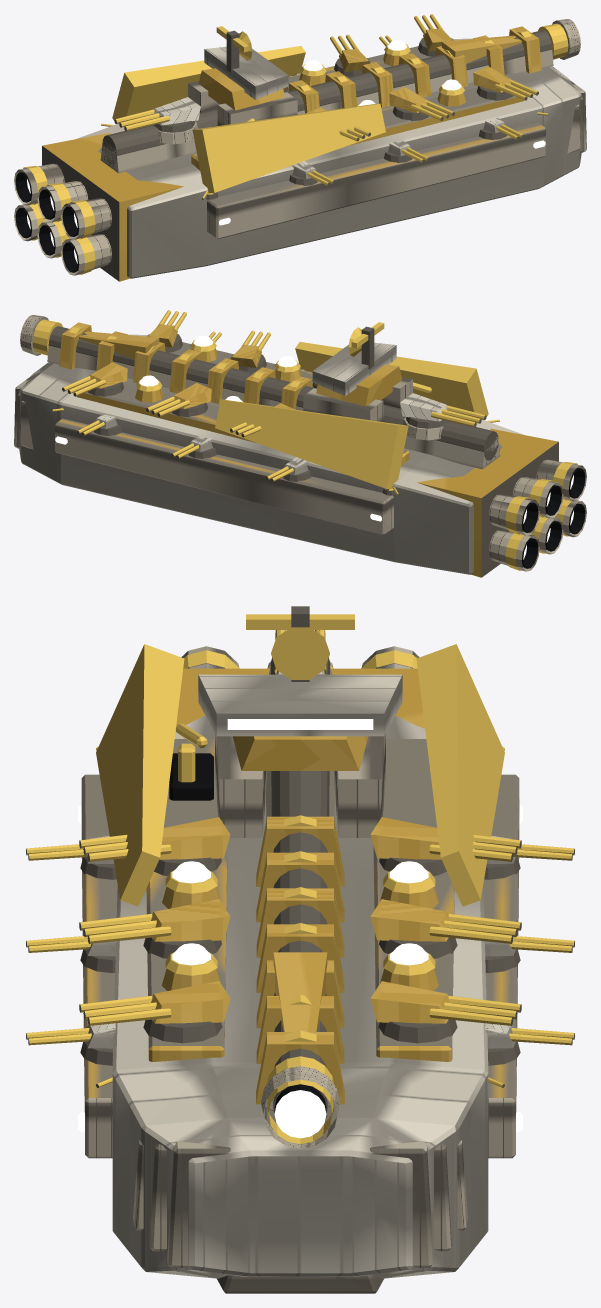
The model's file is battleship.glb.
3 views of the same model, one above another, from view 1: azimuth 30°, elevation 25°; view 2: azimuth 150°, elevation 25°; view 3: azimuth 270°, elevation 25° (orthographic). The views are drawn at different scales.
Visible parts, largest first — view 1: hull_body, weapon_mounts, engine_block, sensor_tower, shield_domes; view 2: hull_body, weapon_mounts, engine_block, sensor_tower, shield_domes; view 3: hull_body, weapon_mounts, sensor_tower, shield_domes, engine_block.
Part boxes in pixels (x1,y1,x2,y2): hull_body: (77,35,586,278); weapon_mounts: (100,14,580,199); engine_block: (14,132,183,281); sensor_tower: (188,26,297,125); shield_domes: (299,39,465,106); hull_body: (14,331,523,574); weapon_mounts: (20,310,500,495); engine_block: (417,428,586,577); sensor_tower: (303,322,412,421); shield_domes: (135,335,301,402); hull_body: (78,644,522,1293); weapon_mounts: (26,630,574,1148); sensor_tower: (198,606,402,837); shield_domes: (162,861,438,990); engine_block: (176,646,424,728).
Bounding box in the file's own units: 60 × 20.69 × 27.18.
Materials: 1 (1 with a texture image).
